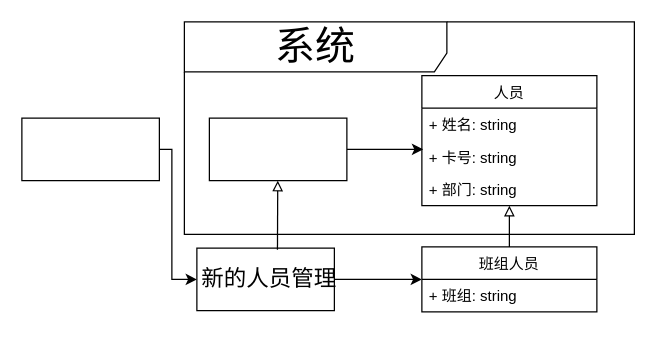
Image size: 656x338. Some labels were removed from this diagram. The centre of each missing label's shape, as x and y in pixels:
"Client" belongs at point 90,149.
"人员管理" belongs at point 277,149.
